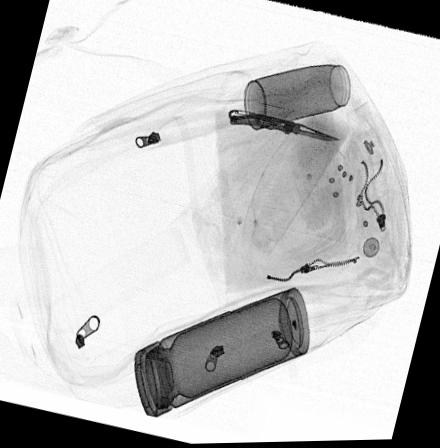Knife: (227, 110, 339, 143)
